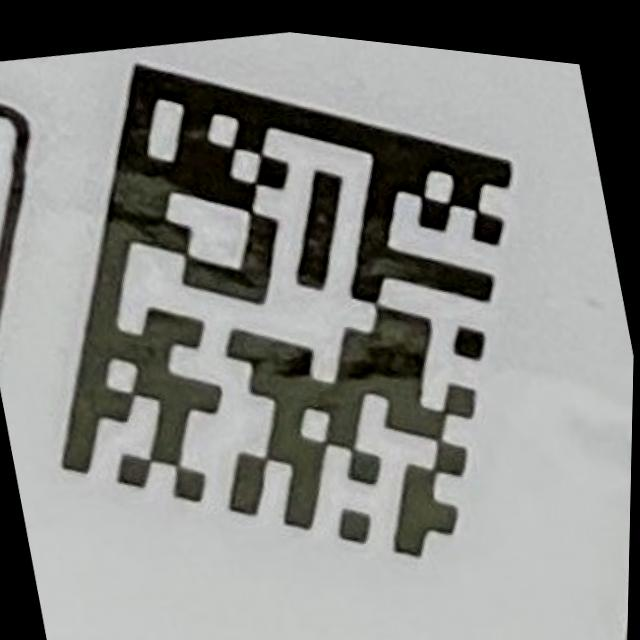QR_CODE: (0, 0, 596, 635)
